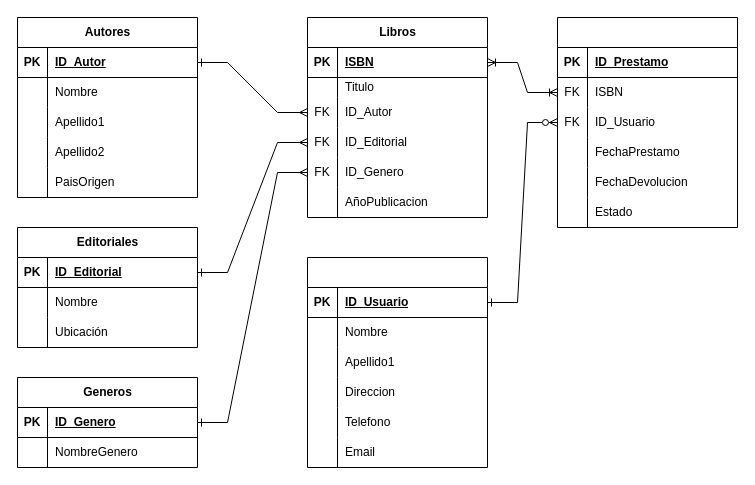
Image size: 755x485. Some labels were removed from this diagram. Each missing label, with the box of its shape:
Prestamos: (556, 16, 738, 228)
Usuarios: (306, 256, 488, 468)
